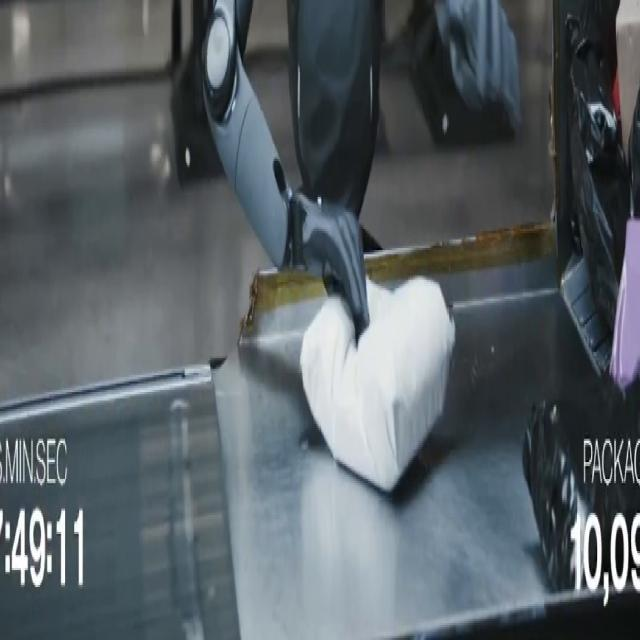package: (300, 278, 454, 491), (523, 380, 639, 591), (567, 17, 630, 330), (611, 92, 639, 389), (611, 219, 639, 389), (616, 0, 639, 152), (628, 87, 639, 218)
